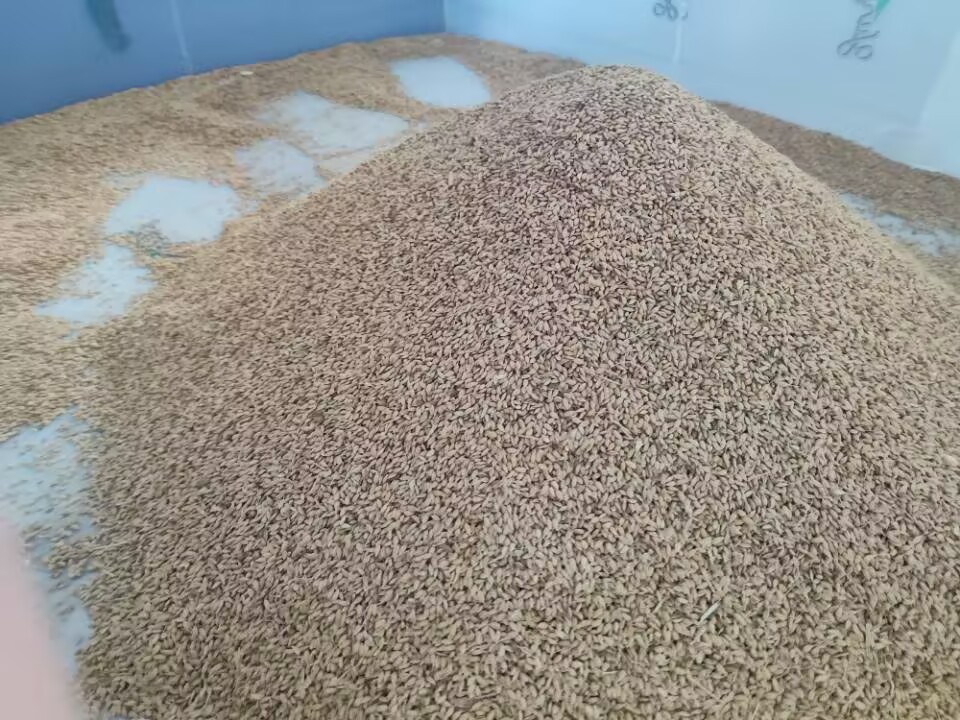Grain: (141, 60, 957, 700)
